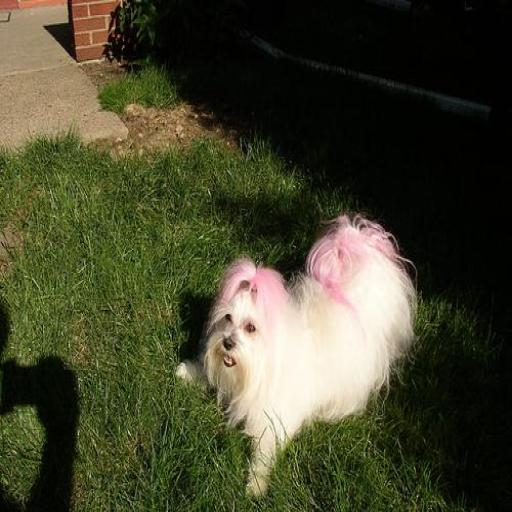dog_face: (198, 264, 278, 388)
